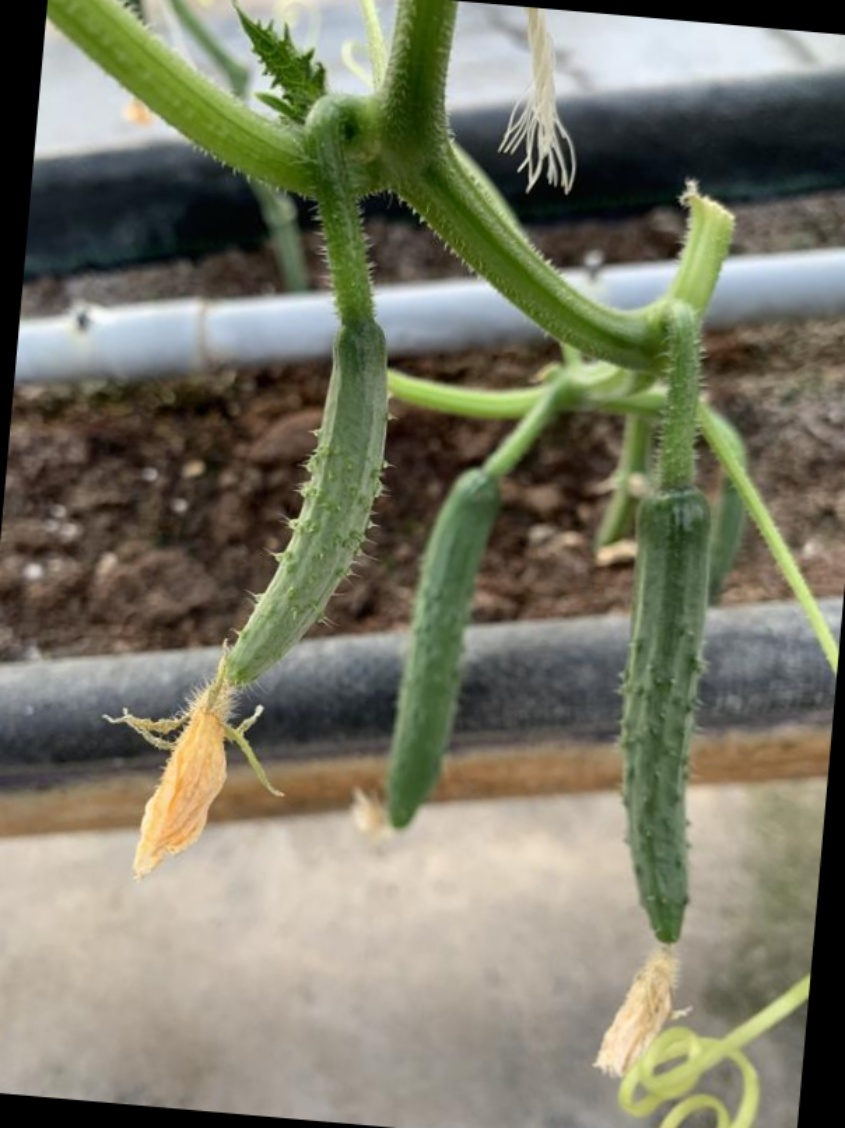bear: (104, 327, 426, 871)
growth: (376, 467, 502, 836)
